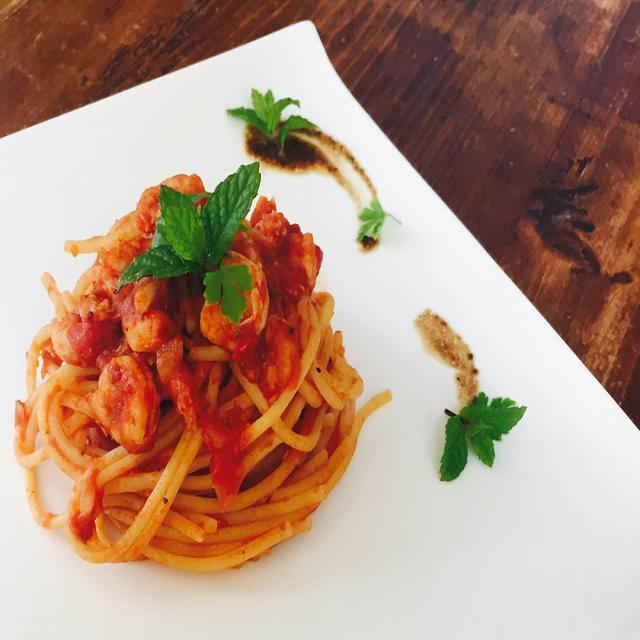Pasta al ragu: (18, 133, 436, 568)
